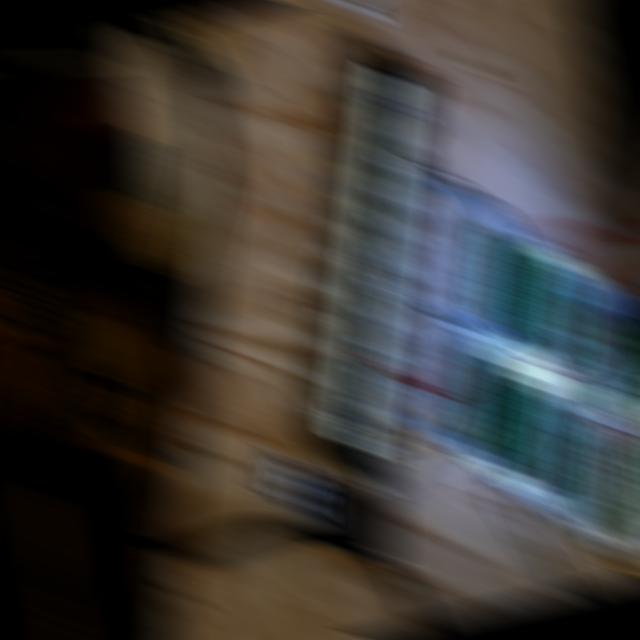Phillips_Block: (303, 30, 440, 490)
Terminal_1: (578, 430, 630, 532), (591, 320, 640, 420)
Terminal_2: (458, 350, 513, 447), (518, 392, 571, 489), (530, 266, 584, 360), (489, 372, 541, 469), (504, 246, 555, 343)
